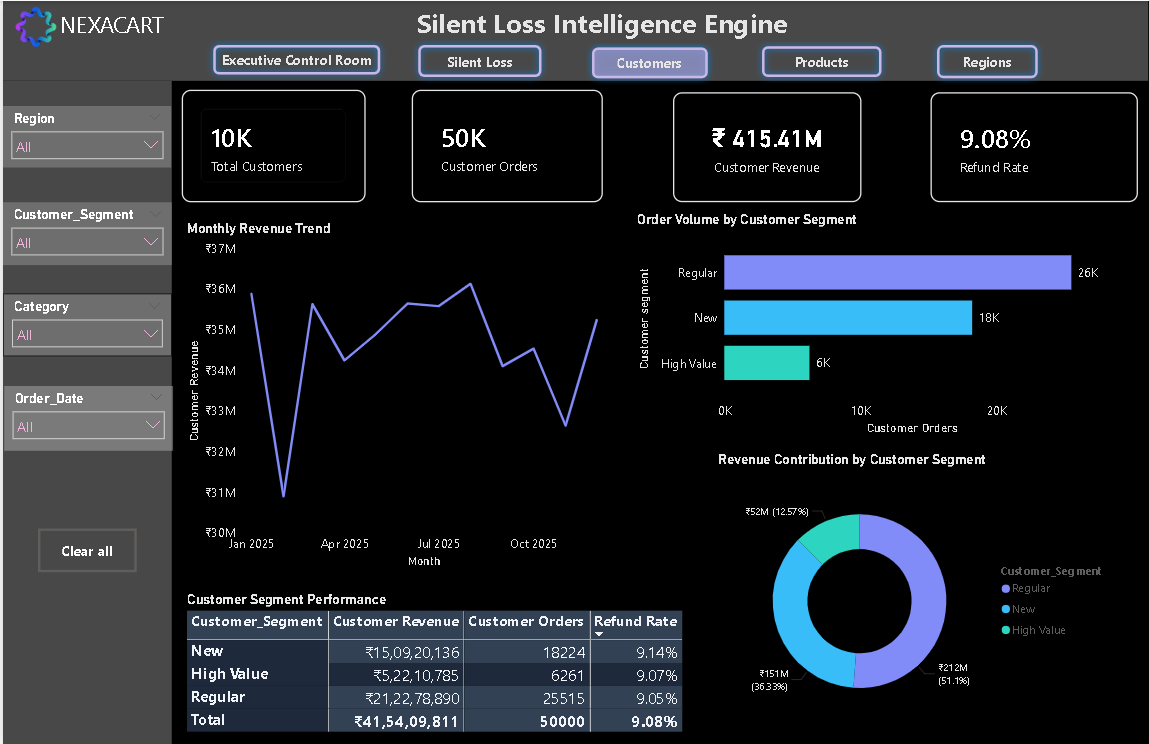

Layout of this report page (visuals, bound fields, positions):
{"tool":"powerbi","page":{"name":"Customers","canvas":[1400,912],"ordinal":2},"visuals":[{"type":"textbox","box":[0,0,1399.8,97.8],"z":0},{"type":"shape","box":[0,97.5,206.3,814.5],"z":1000},{"type":"slicer","fields":{"Values":["customers.Region"]},"box":[0,127.6,205.8,75.5],"z":2000},{"type":"slicer","fields":{"Values":["customers.Customer_Segment"]},"box":[0,246,206.3,76.4],"z":3000},{"type":"slicer","fields":{"Values":["products.Category"]},"box":[0,357.6,206.3,76.4],"z":4000},{"type":"slicer","fields":{"Values":["orders.Order_Date"]},"box":[1.5,470.7,206.3,79.5],"z":5000},{"type":"cardVisual","fields":{"Data":["CustomerLossScore.Total Customers"]},"box":[218.5,108.5,224.6,137.5],"z":6000},{"type":"cardVisual","fields":{"Data":["orders.Customer Orders"]},"box":[499.7,108.5,233.8,137.5],"z":7000},{"type":"card","fields":{"Values":["orders.Customer Revenue"]},"box":[819.1,111.6,230.8,134.5],"z":8000},{"type":"cardVisual","fields":{"Data":["customers.Customer Refund Rate %"]},"box":[1133.9,111.6,253.7,134.5],"z":9000},{"type":"lineChart","title":"Monthly Revenue Trend","fields":{"Y":["orders.Customer Revenue"],"Category":["orders.Month Start.Variation.Date Hierarchy.Year","orders.Month Start.Variation.Date Hierarchy.Quarter","orders.Month Start.Variation.Date Hierarchy.Month","orders.Month Start.Variation.Date Hierarchy.Day"]},"box":[220.1,267.4,541,430.9],"z":10000},{"type":"clusteredBarChart","title":"Order Volume by Customer Segment","fields":{"Category":["customers.Customer_Segment"],"Y":["orders.Customer Orders"]},"box":[770.2,256.7,589.9,278.1],"z":11000},{"type":"donutChart","title":"Revenue Contribution by Customer Segment","fields":{"Category":["customers.Customer_Segment"],"Y":["orders.Customer Revenue"]},"box":[869.5,550.1,490.5,348.4],"z":12000},{"type":"actionButton","box":[42.8,644.9,120.7,53.5],"z":13000},{"type":"actionButton","box":[249.1,45.8,220.1,52],"z":14000},{"type":"image","box":[0,0,82.5,59.6],"z":15000},{"type":"actionButton","box":[712.1,48.9,157.4,53.5],"z":16000},{"type":"actionButton","box":[499.7,45.8,166.6,55],"z":17000},{"type":"actionButton","box":[1133.9,45.8,139.1,56.5],"z":18000},{"type":"actionButton","box":[920,47.4,162,53.5],"z":19000},{"type":"pivotTable","title":"Customer Segment Performance","fields":{"Rows":["customers.Customer_Segment"],"Values":["orders.Customer Revenue","orders.Customer Orders","customers.Customer Refund Rate %"]},"box":[220.1,721.3,628.1,177.3],"z":20000}]}

Visuals, with their boxes in screenshot pixels (x1, y1, x2, y2), scaled from the page's 1400x912 canvas onto the 1149x744 screenshot:
textbox: {"x1": 0, "y1": 0, "x2": 1148, "y2": 80}
shape: {"x1": 0, "y1": 80, "x2": 169, "y2": 743}
slicer - customers.Region: {"x1": 0, "y1": 104, "x2": 169, "y2": 166}
slicer - customers.Customer_Segment: {"x1": 0, "y1": 201, "x2": 169, "y2": 263}
slicer - products.Category: {"x1": 0, "y1": 292, "x2": 169, "y2": 354}
slicer - orders.Order_Date: {"x1": 1, "y1": 384, "x2": 171, "y2": 449}
cardVisual - CustomerLossScore.Total Customers: {"x1": 179, "y1": 89, "x2": 364, "y2": 201}
cardVisual - orders.Customer Orders: {"x1": 410, "y1": 89, "x2": 602, "y2": 201}
card - orders.Customer Revenue: {"x1": 672, "y1": 91, "x2": 862, "y2": 201}
cardVisual - customers.Customer Refund Rate %: {"x1": 931, "y1": 91, "x2": 1139, "y2": 201}
"Monthly Revenue Trend" lineChart: {"x1": 181, "y1": 218, "x2": 625, "y2": 570}
"Order Volume by Customer Segment" clusteredBarChart: {"x1": 632, "y1": 209, "x2": 1116, "y2": 436}
"Revenue Contribution by Customer Segment" donutChart: {"x1": 714, "y1": 449, "x2": 1116, "y2": 733}
actionButton: {"x1": 35, "y1": 526, "x2": 134, "y2": 570}
actionButton: {"x1": 204, "y1": 37, "x2": 385, "y2": 80}
image: {"x1": 0, "y1": 0, "x2": 68, "y2": 49}
actionButton: {"x1": 584, "y1": 40, "x2": 714, "y2": 84}
actionButton: {"x1": 410, "y1": 37, "x2": 547, "y2": 82}
actionButton: {"x1": 931, "y1": 37, "x2": 1045, "y2": 83}
actionButton: {"x1": 755, "y1": 39, "x2": 888, "y2": 82}
"Customer Segment Performance" pivotTable: {"x1": 181, "y1": 588, "x2": 696, "y2": 733}
